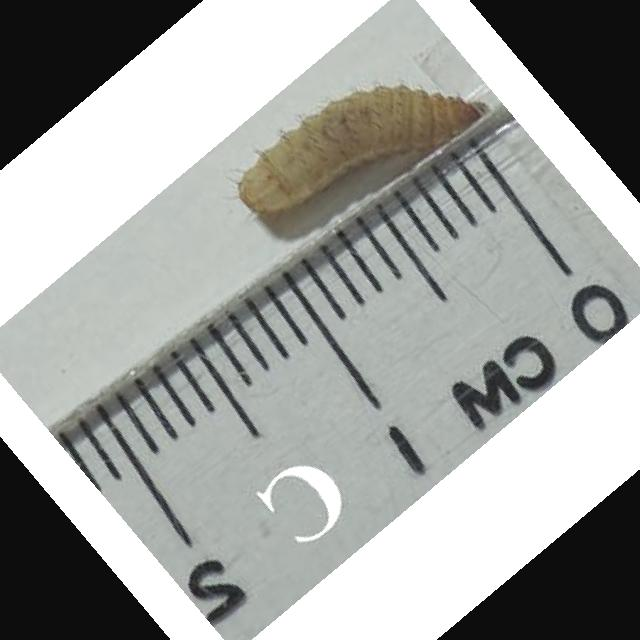Maggot: (236, 87, 487, 213)
